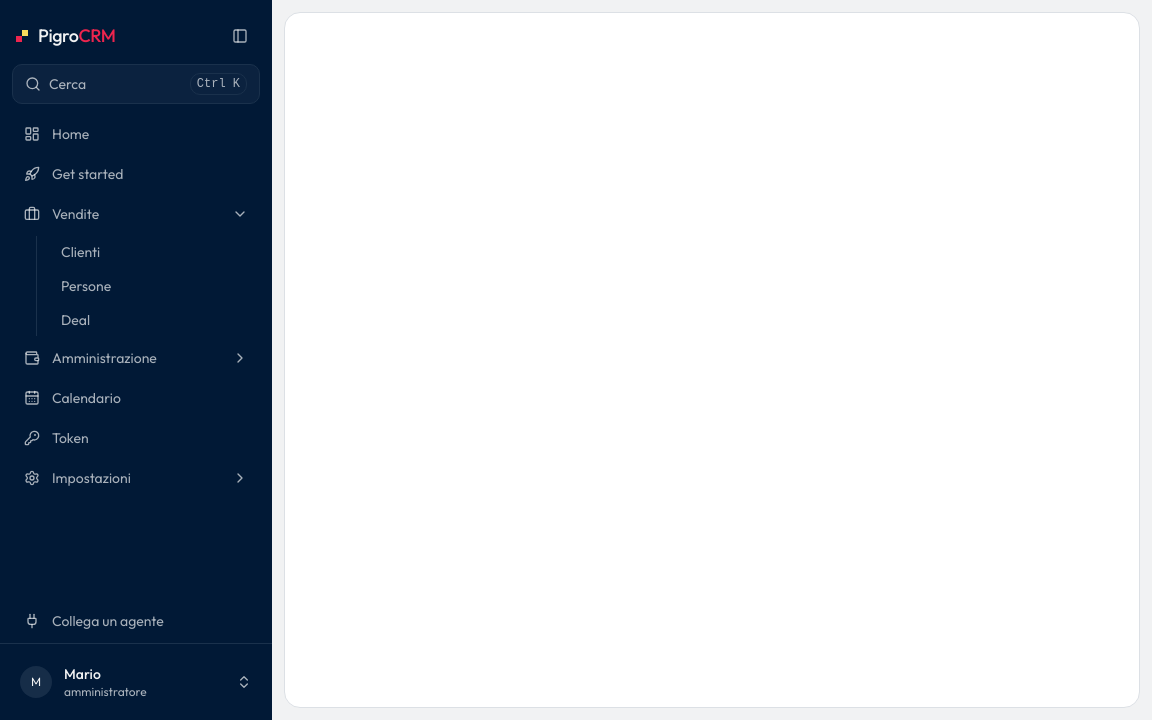
Test: AppShell › lets you close the group of the current route, so the chevron is never a no-op
Click the button "Vendite": (136, 214) [12,196,260,232]
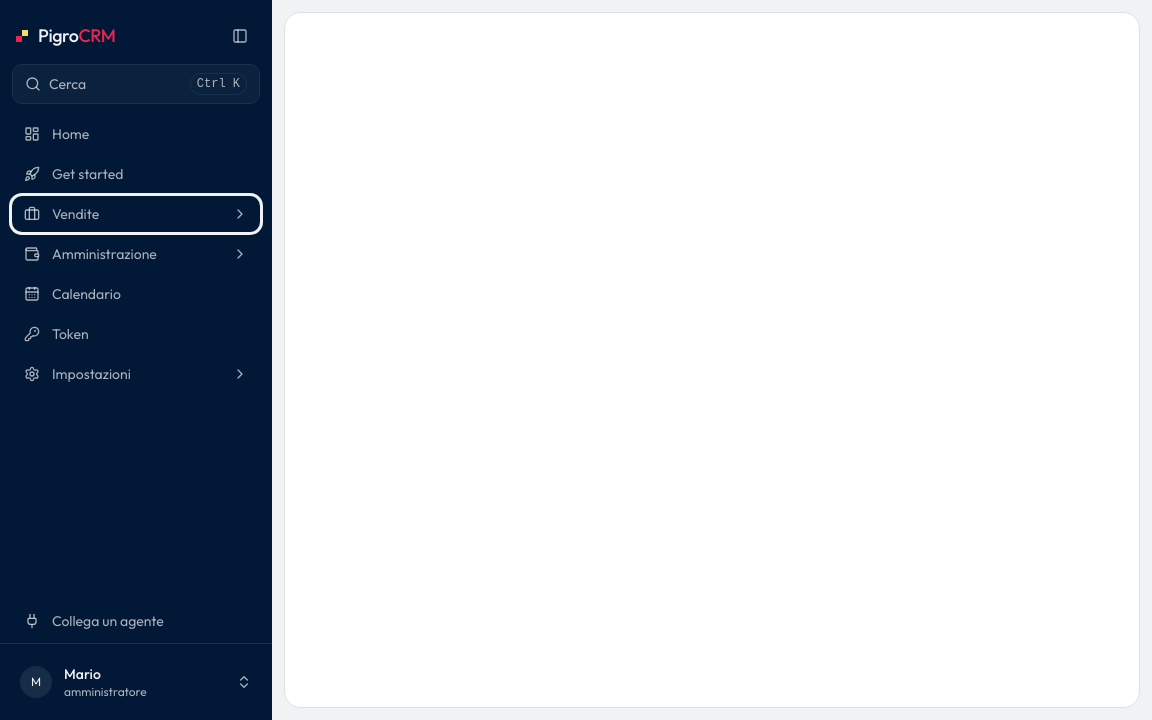
expect the button "Vendite" is collapsed: met, box [12,196,260,232]
